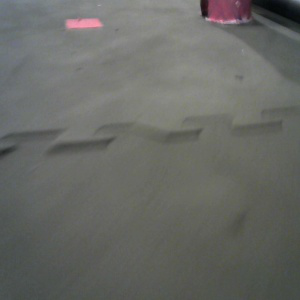Right: (199, 1, 254, 25)
